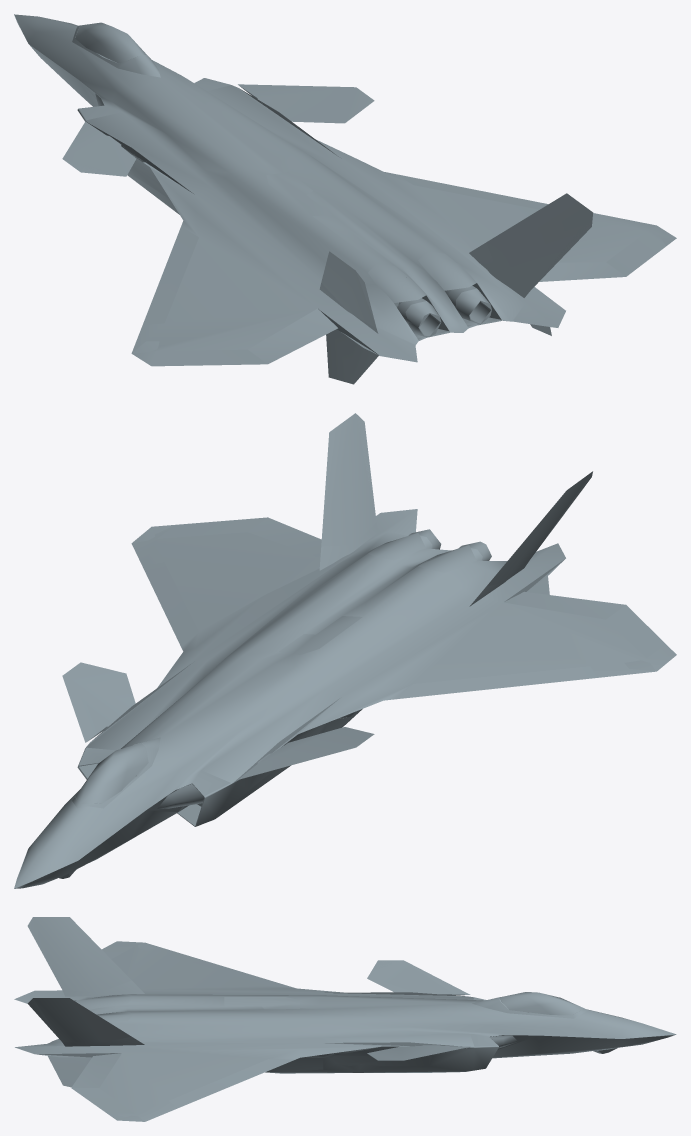
File: model-aircraft-ff-4.glb
The picture shows the model from 3 angles, top to bottom: view 1: azimuth 30°, elevation 25°; view 2: azimuth 150°, elevation 25°; view 3: azimuth 270°, elevation 25°; orthographic projection. The views are drawn at different scales.
Bounding box in the file's own units: 25.57 × 6.7 × 39.95.
